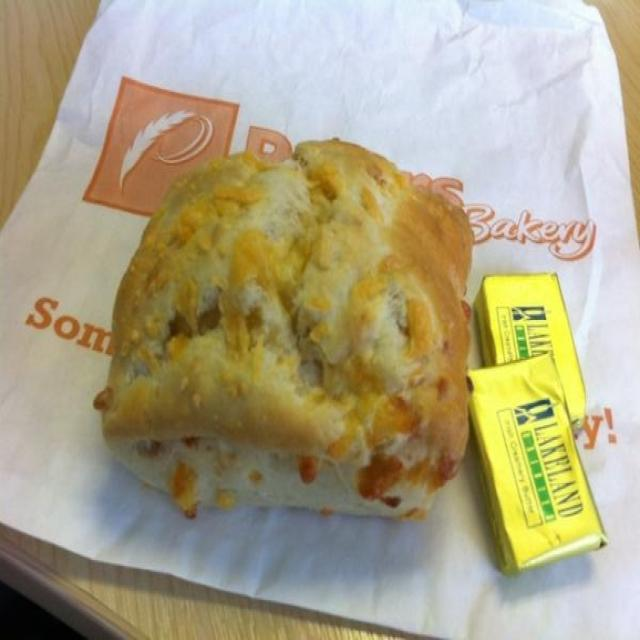面包点心: (100, 124, 474, 538)
